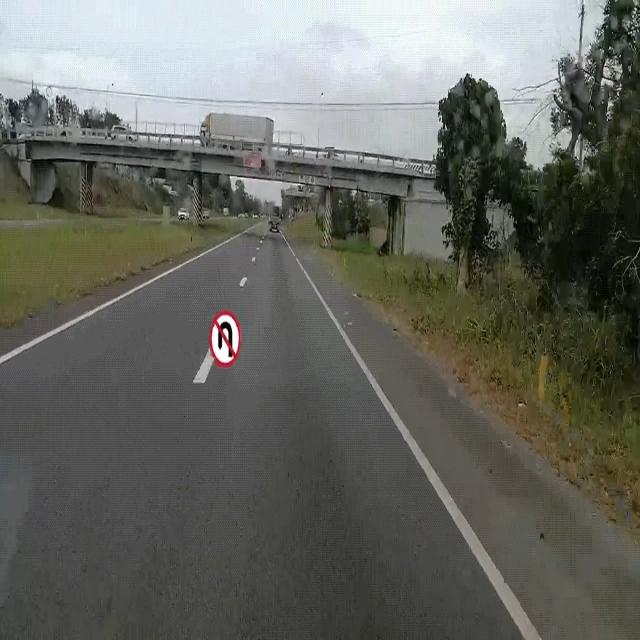Demi-Tour-Interdit: (208, 307, 244, 375)
